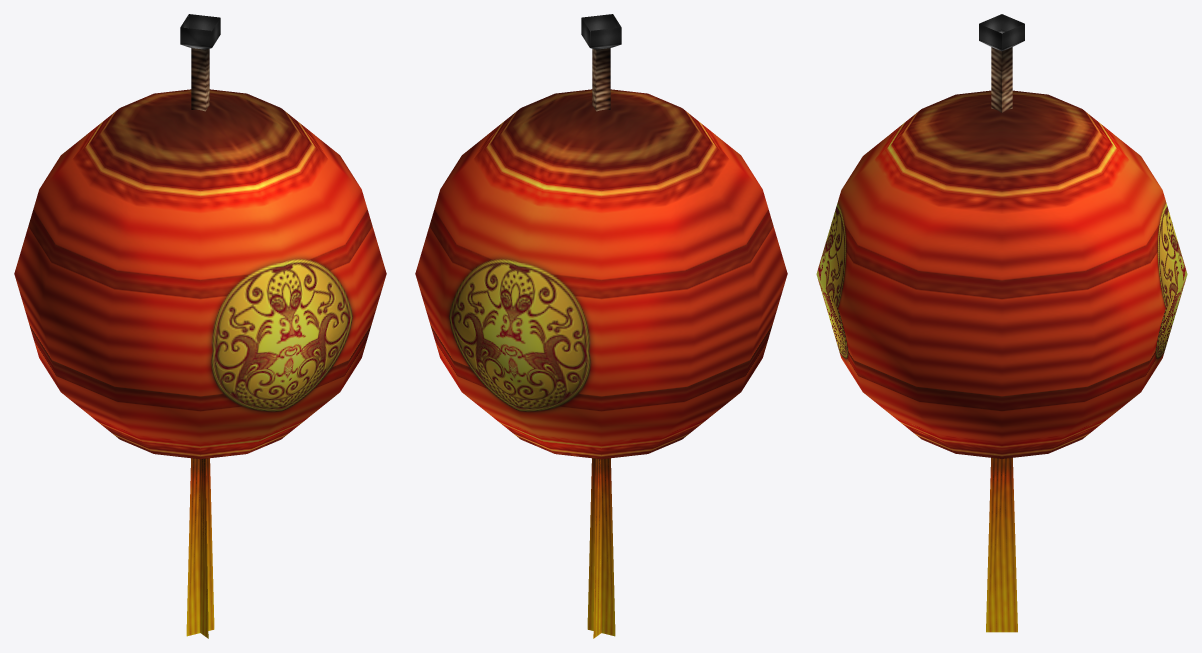
File: SwordSpirit_Square_obj01.FBX
3 views of the same model, side by side, from view 1: azimuth 30°, elevation 25°; view 2: azimuth 150°, elevation 25°; view 3: azimuth 270°, elevation 25° (orthographic).
Parts seen in each view (by area): view 1: 28; view 2: 28; view 3: 28.
Boxes of the visible parts, <box> form: 28: <box>14,14,386,638</box>; 28: <box>415,14,787,638</box>; 28: <box>816,14,1187,632</box>.
Bounding box in the file's own units: 191 × 345 × 191.
1 material, 1 textured.
